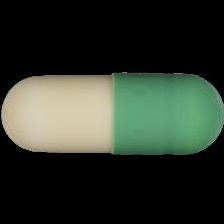68084-605: (0, 0, 224, 224)
